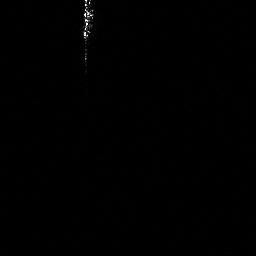ship: (80, 1, 94, 74)
